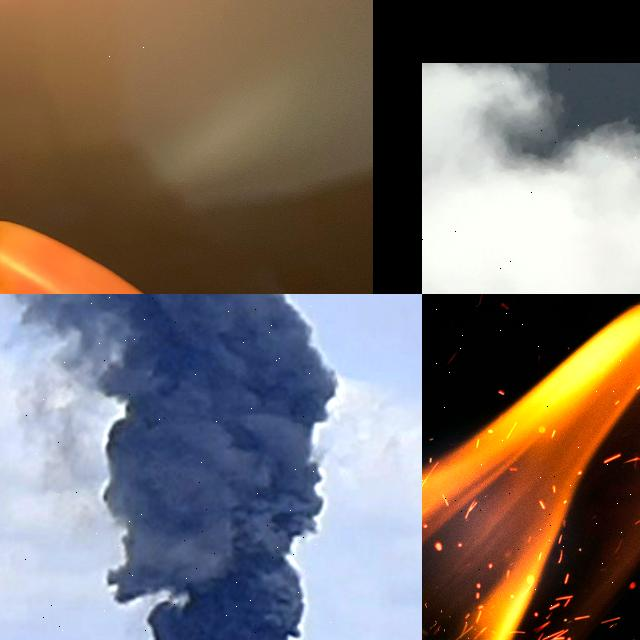fire: (422, 306, 640, 640)
smoke: (14, 294, 337, 640), (422, 63, 640, 294)
